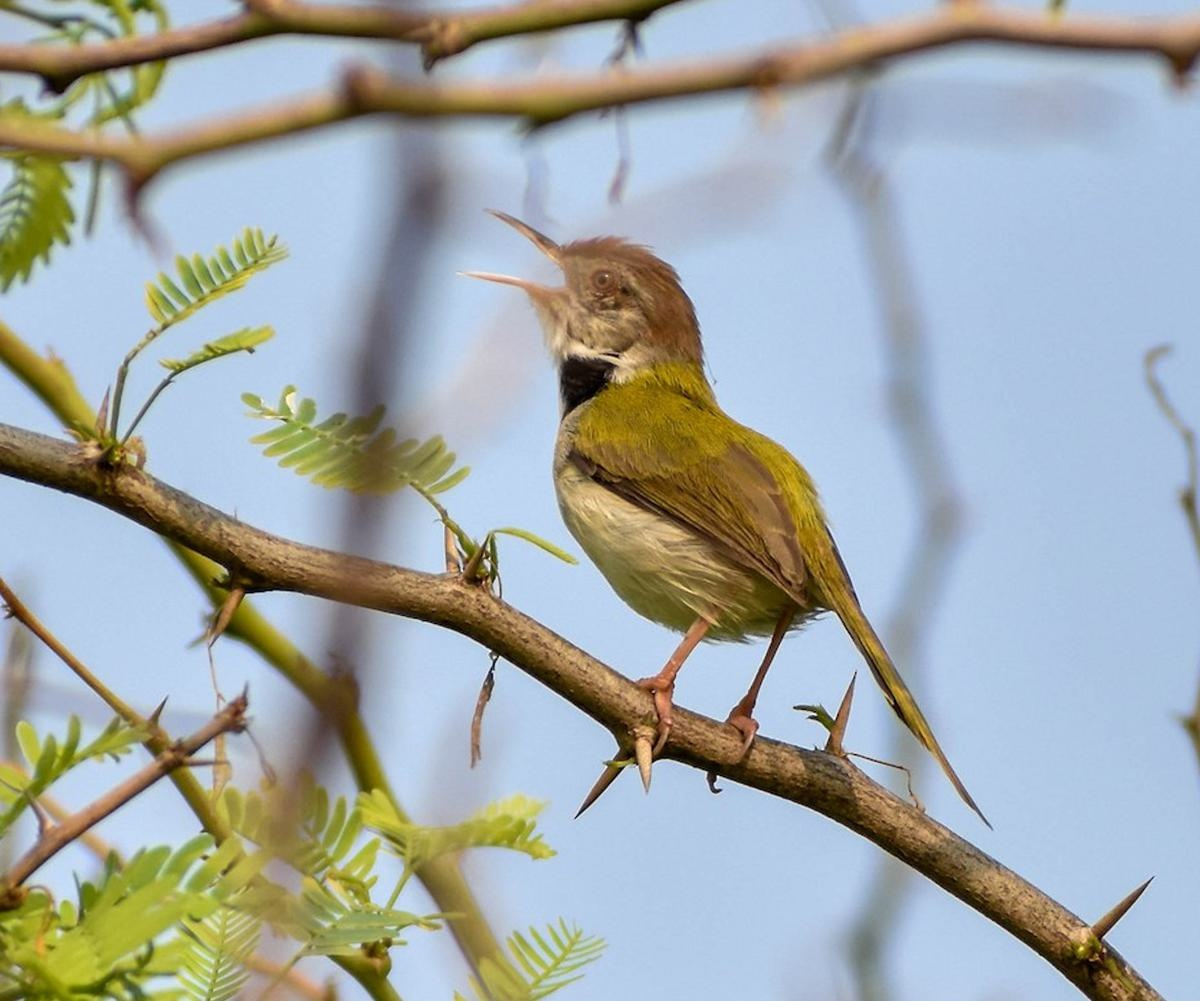tailorbird: (429, 171, 1007, 847)
